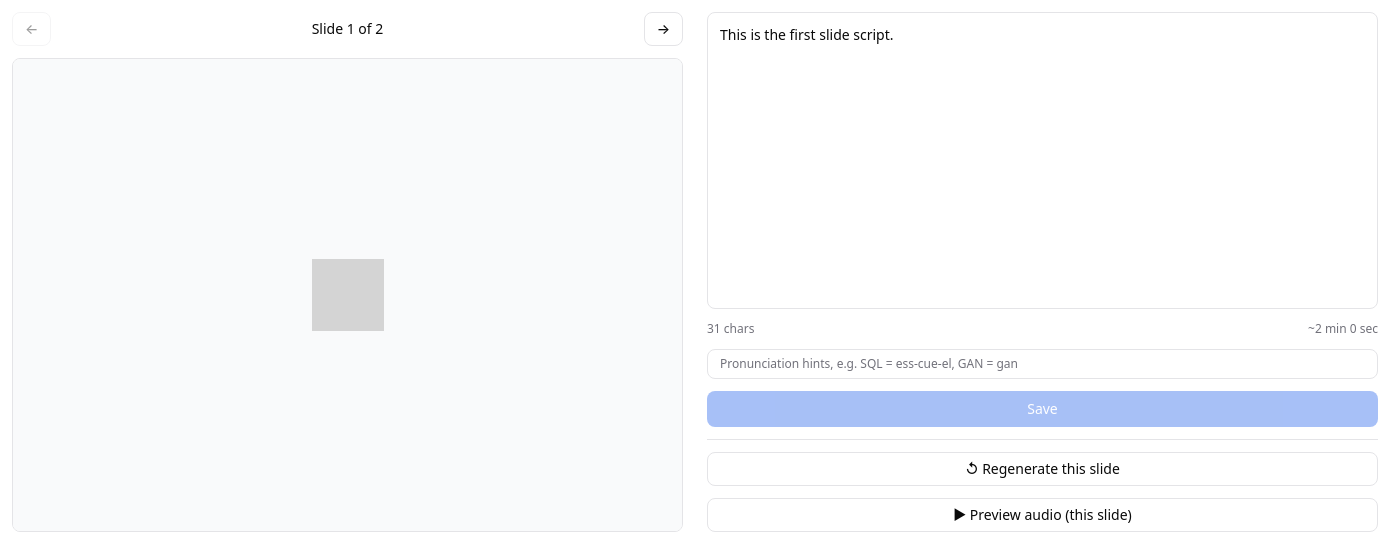
it: SlideEditor › Save button is enabled after editing text
Type " extra" into the text box showing "This is the first slide script." at (1042, 160), box x1=707 y1=12 x2=1378 y2=309
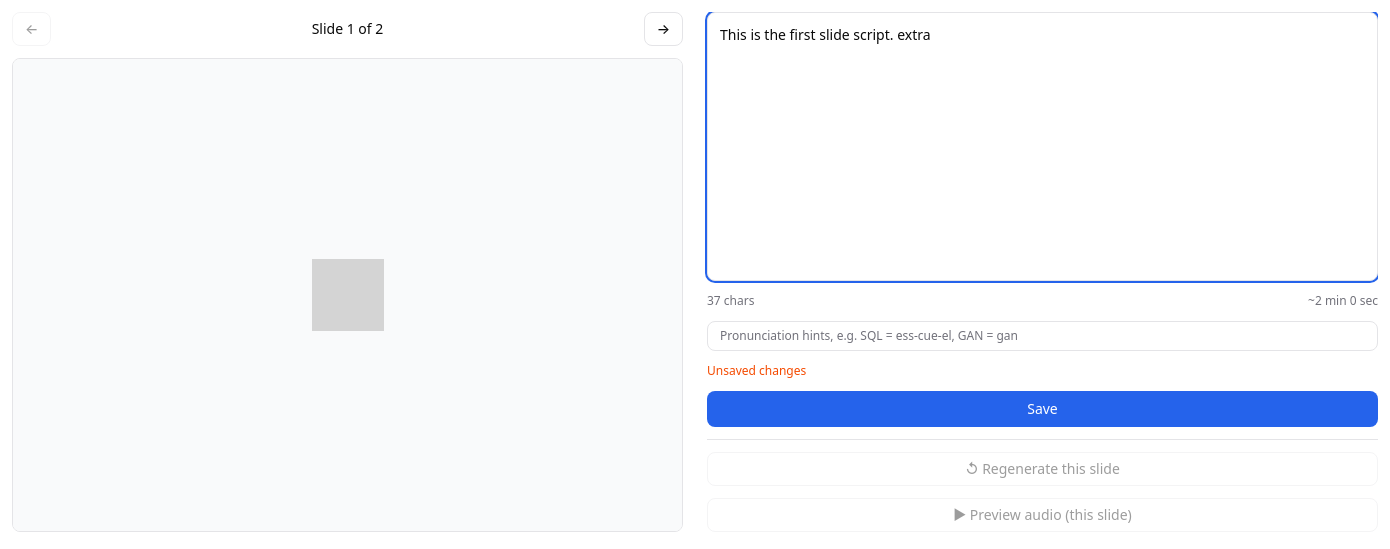
Result: the button "Save" is enabled at x1=707 y1=391 x2=1378 y2=427
